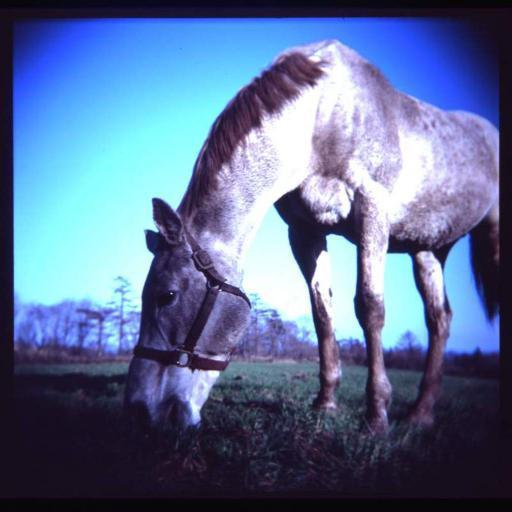horse: (118, 32, 508, 430)
